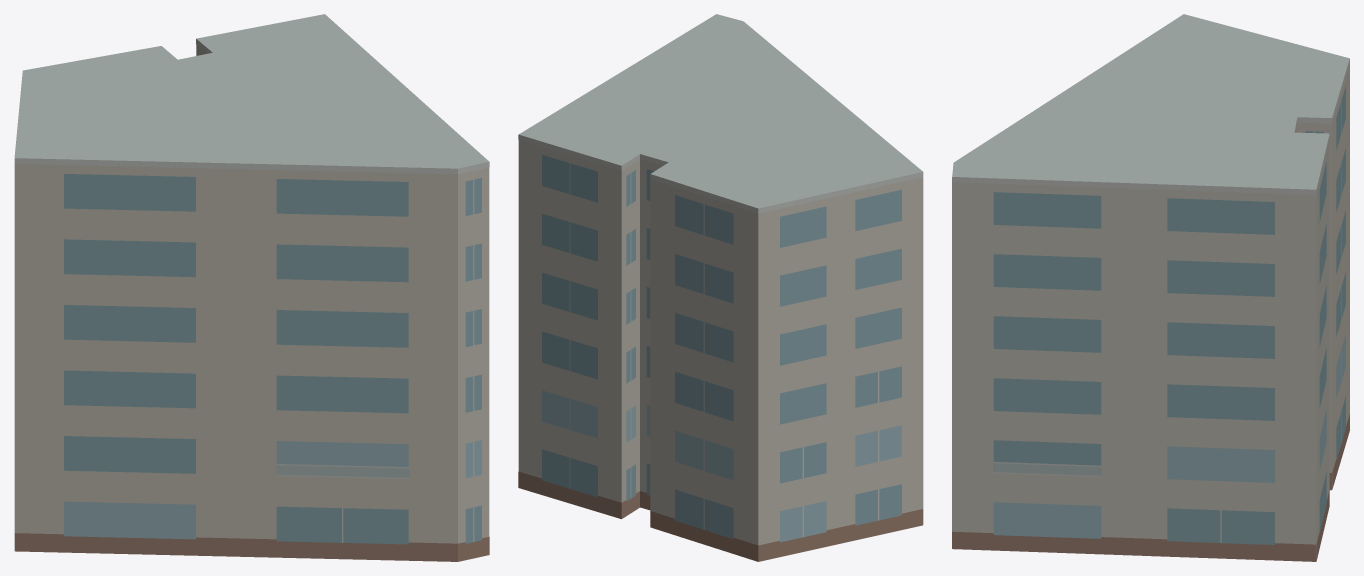
Rendered from survey-upis-33010337.glb.
3 views of the same model, side by side, from view 1: azimuth 30°, elevation 25°; view 2: azimuth 150°, elevation 25°; view 3: azimuth 270°, elevation 25° (orthographic). The views are drawn at different scales.
Visible parts, largest first — view 1: survey-upis-33010337.tmp; view 2: survey-upis-33010337.tmp; view 3: survey-upis-33010337.tmp.
Part boxes in pixels (x1,y1,x2,y2): survey-upis-33010337.tmp: [14, 14, 489, 561]; survey-upis-33010337.tmp: [518, 14, 923, 561]; survey-upis-33010337.tmp: [952, 14, 1349, 561].
Size of the model in its own units: 17.02 by 16.8 by 16.28.
